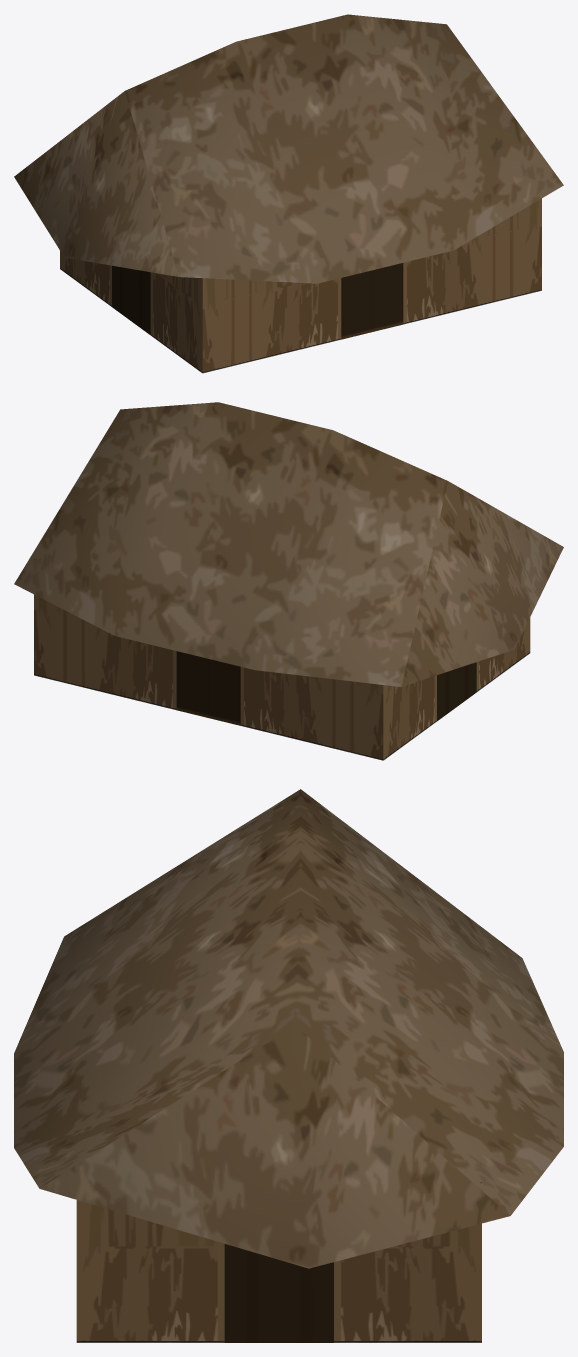
Rendered from SM_Building_Rural_02.fbx.
3 renders of one model, top to bottom at view 1: azimuth 30°, elevation 25°; view 2: azimuth 150°, elevation 25°; view 3: azimuth 270°, elevation 25°, orthographic. The views are drawn at different scales.
Parts seen in each view (by area): view 1: SM_Building_Rural_02; view 2: SM_Building_Rural_02; view 3: SM_Building_Rural_02.
Part boxes in pixels (box(x1,y1,x2,y2)): SM_Building_Rural_02: box(14, 14, 563, 373); SM_Building_Rural_02: box(14, 402, 563, 760); SM_Building_Rural_02: box(14, 789, 563, 1342).
Size of the model in its own units: 10.98 by 5.73 by 8.15.
